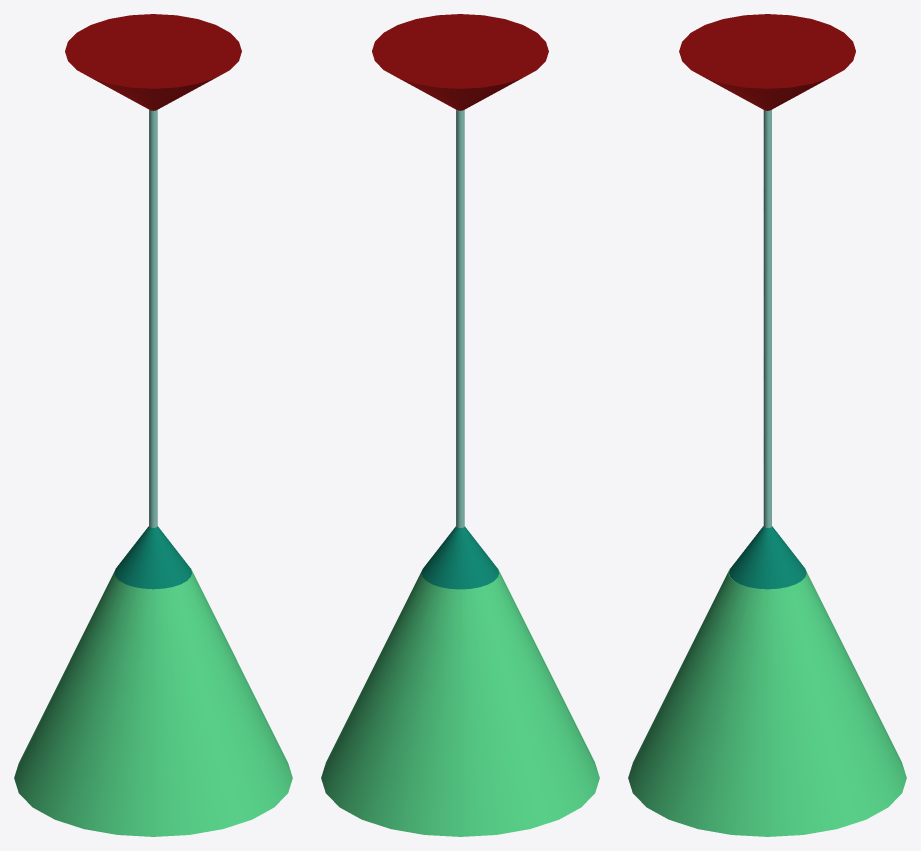
Rendered from ceilingLight.obj.
3 views of the same model, side by side, from view 1: azimuth 30°, elevation 25°; view 2: azimuth 150°, elevation 25°; view 3: azimuth 270°, elevation 25° (orthographic).
Parts seen in each view (by area): view 1: Cone001, Cone003, Cylinder001, Cone002; view 2: Cone001, Cone003, Cylinder001, Cone002; view 3: Cone001, Cone003, Cylinder001, Cone002.
Boxes of the visible parts, left/top/right/bottom form: Cone001: left=14, top=569, right=292, bottom=836; Cone003: left=65, top=14, right=241, bottom=110; Cylinder001: left=149, top=109, right=157, bottom=527; Cone002: left=114, top=526, right=191, bottom=589; Cone001: left=321, top=568, right=599, bottom=836; Cone003: left=372, top=14, right=548, bottom=110; Cylinder001: left=456, top=110, right=464, bottom=527; Cone002: left=421, top=526, right=498, bottom=589; Cone001: left=628, top=568, right=906, bottom=836; Cone003: left=679, top=14, right=855, bottom=110; Cylinder001: left=763, top=110, right=771, bottom=527; Cone002: left=729, top=526, right=806, bottom=589.
Bounding box in the file's own units: 64.49 × 194 × 64.49.
